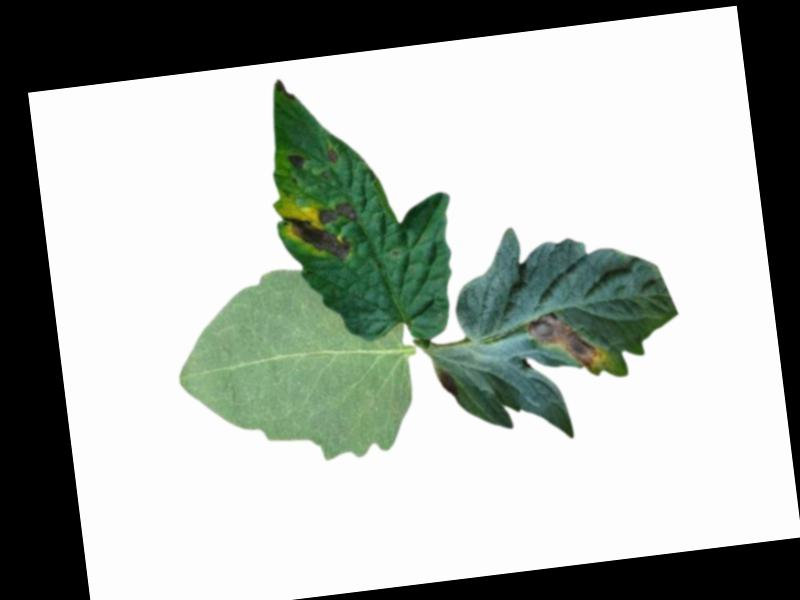Early_blight: (523, 305, 609, 382), (282, 199, 363, 270), (271, 77, 295, 104), (282, 151, 305, 174), (325, 151, 340, 165)
